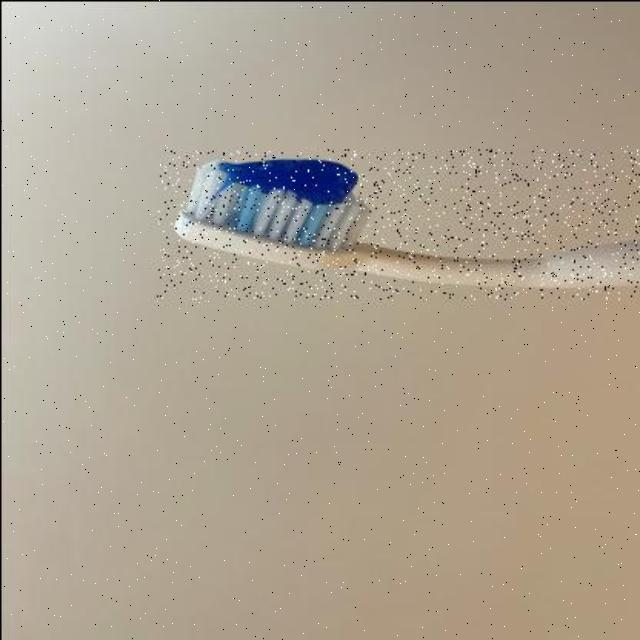toothbrush: (156, 148, 640, 298)
